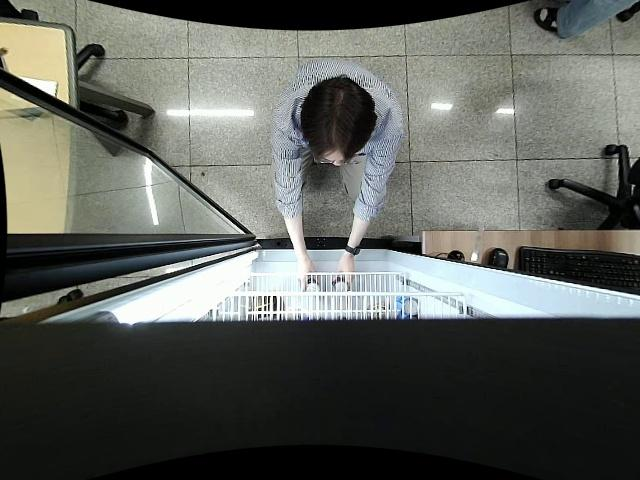00_hand: (294, 261, 319, 289), (333, 262, 358, 288)
